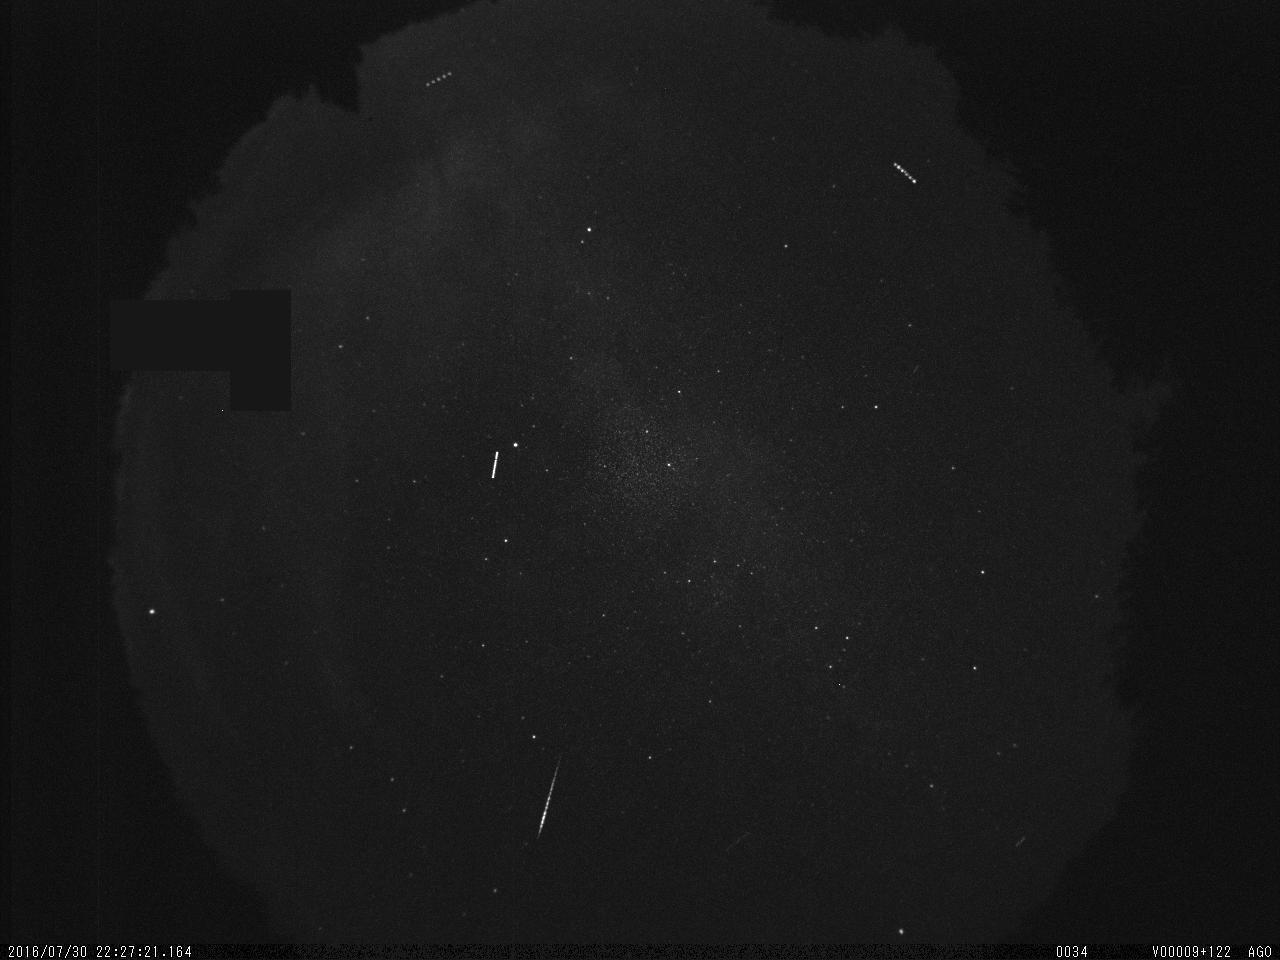Meteor: (528, 748, 568, 846)
